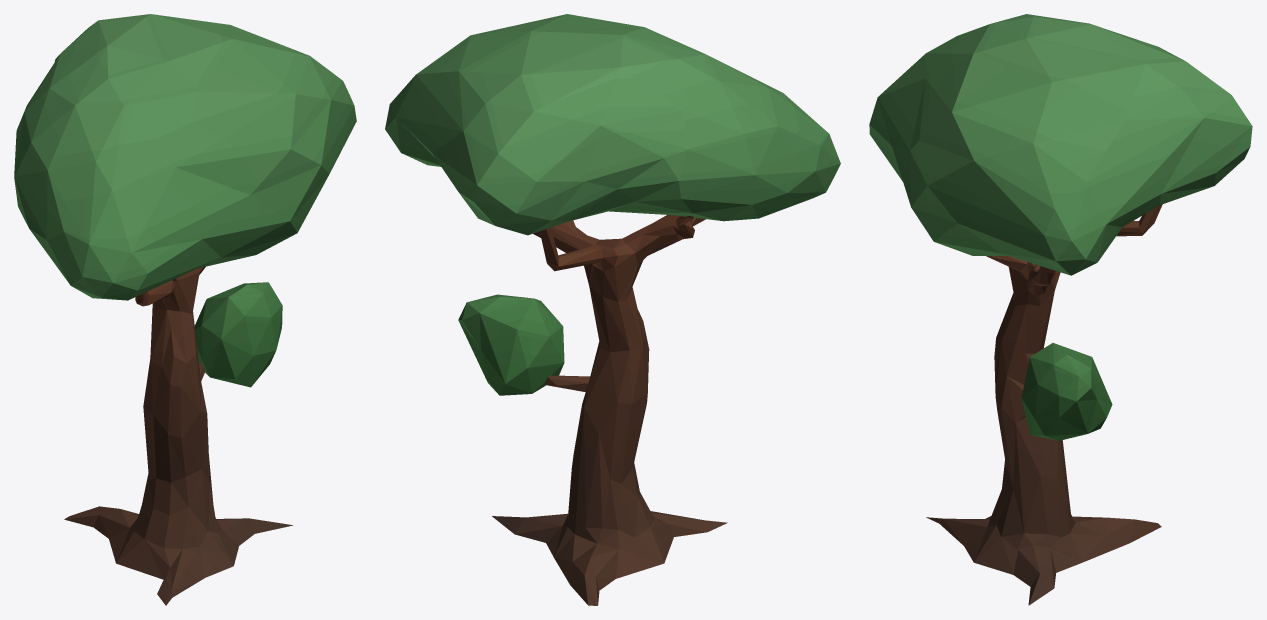
The model's file is arvore_d.glb.
3 views of the same model, side by side, from view 1: azimuth 30°, elevation 25°; view 2: azimuth 150°, elevation 25°; view 3: azimuth 270°, elevation 25° (orthographic). The views are drawn at different scales.
Visible parts, largest first — view 1: GenericTreeD; view 2: GenericTreeD; view 3: GenericTreeD.
Part boxes in pixels (x1,y1,x2,y2): GenericTreeD: [14, 14, 356, 605]; GenericTreeD: [385, 14, 840, 605]; GenericTreeD: [869, 14, 1252, 605].
Size of the model in its own units: 5.86 by 7.76 by 5.34.
Materials: 1 (1 with a texture image).
